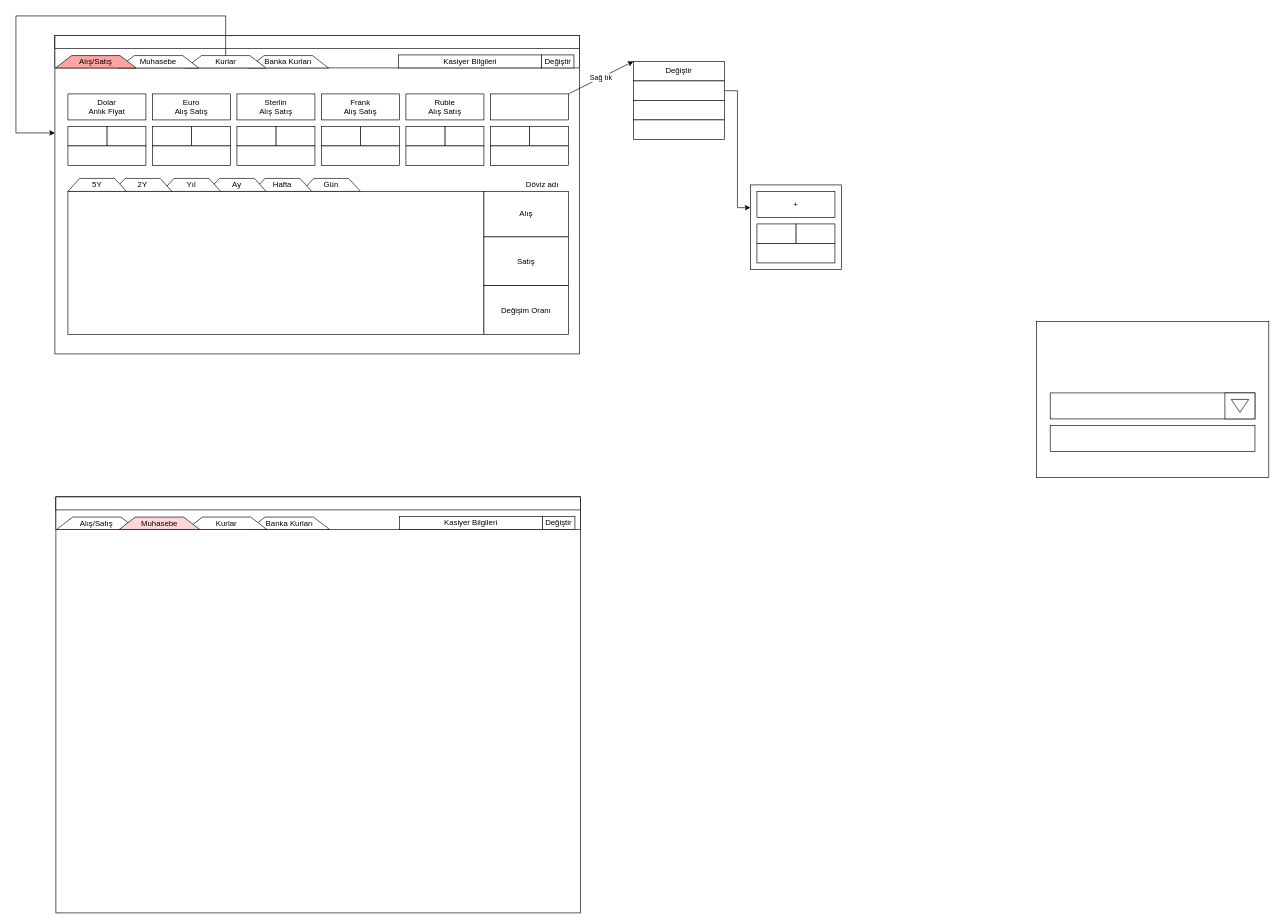
The diagram is 1281 pixels wide and 924 high, and some of its shapes have lost their labels. Here are the shapes that lost their labels. From the top down, the centre of each, then its label:
At point 529,106: "Yen Alış Satış".
At point 678,90: "Kaldır".
At point 275,262: "Grafik".
